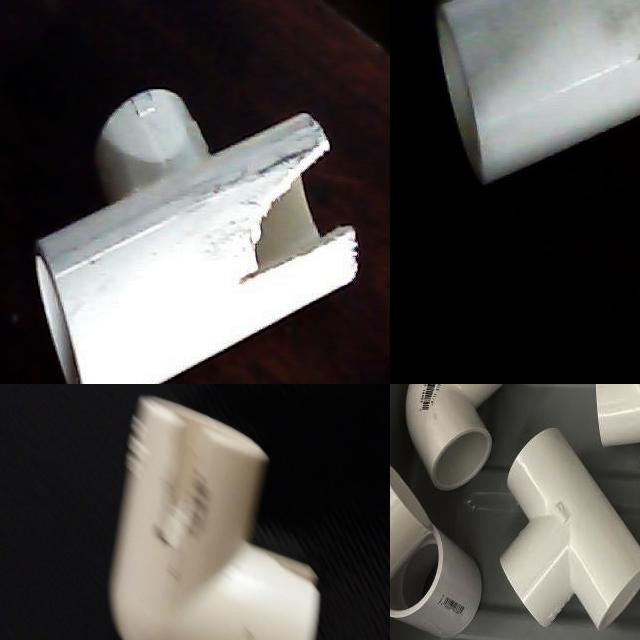Defective: (208, 139, 360, 295)
L Joint: (123, 402, 369, 640), (404, 384, 504, 492)
T Joint: (32, 91, 361, 384), (498, 428, 640, 632)
